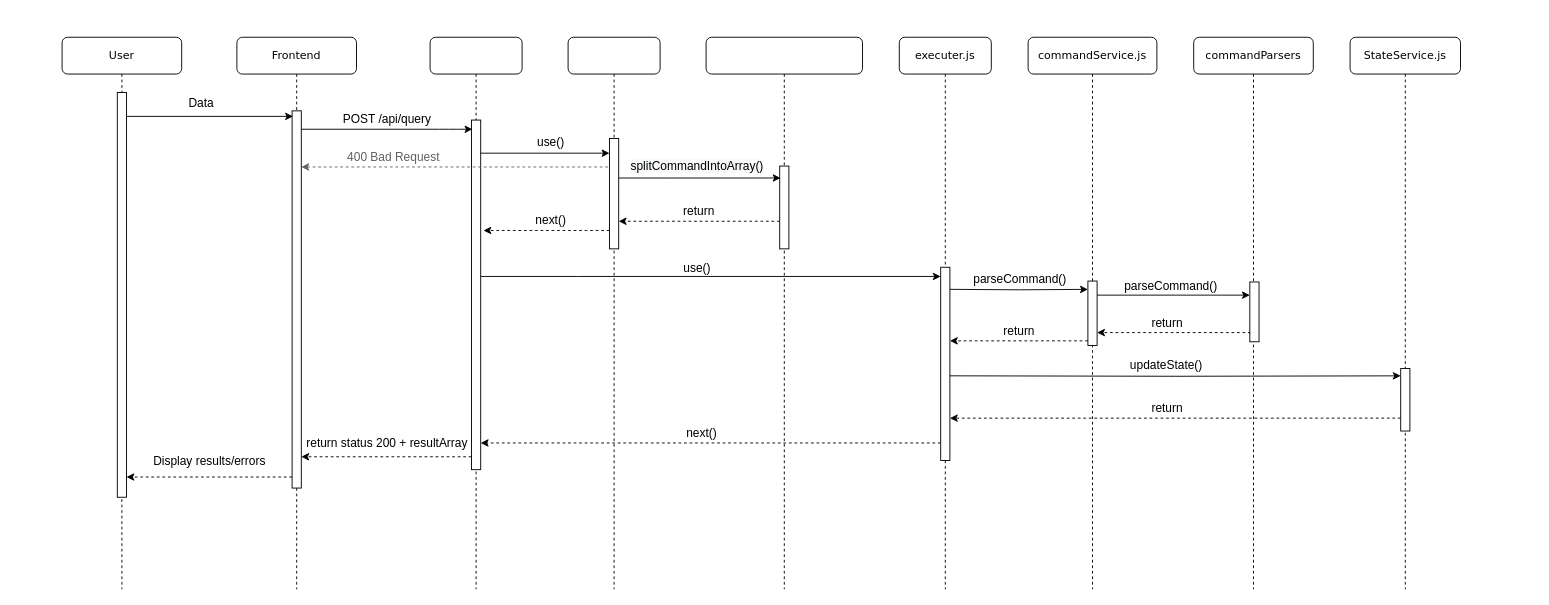
The diagram is 1549 pixels wide and 605 high, and some of its shapes have lost their labels. The shapes that lost their labels are listed below. From the top down, each one's box as (x1, y1, x2, y2) in pixels, then its label:
(429, 36, 522, 589): app.js
(567, 36, 660, 589): splitter.js
(705, 36, 862, 589): splitCommandIntoArray.js
